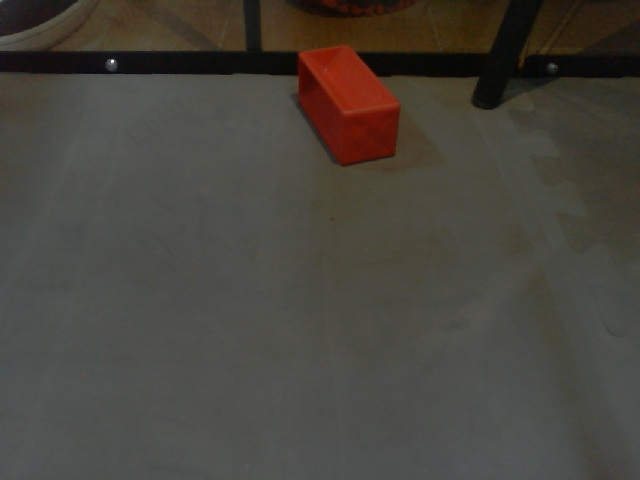RedSample: (296, 43, 402, 165)
